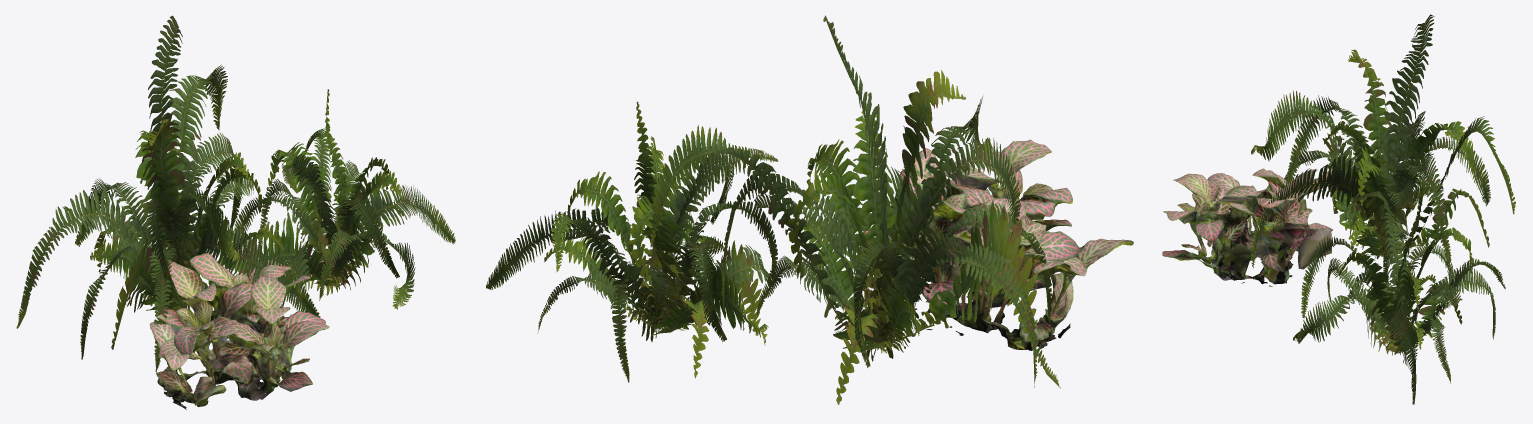
The model's file is plants.glb.
3 renders of one model, left to right at view 1: azimuth 30°, elevation 25°; view 2: azimuth 150°, elevation 25°; view 3: azimuth 270°, elevation 25°, orthographic. The views are drawn at different scales.
Parts seen in each view (by area): view 1: Fern 02 · B, Fern 02 · C, Pink Angel Fittonia · harenil; view 2: Fern 02 · B, Fern 02 · C, Pink Angel Fittonia · harenil; view 3: Fern 02 · B, Fern 02 · C, Pink Angel Fittonia · harenil.
Boxes of the visible parts, left/top/right/bottom form: Fern 02 · B: left=16, top=15, right=320, bottom=372; Fern 02 · C: left=217, top=89, right=455, bottom=309; Pink Angel Fittonia · harenil: left=149, top=253, right=329, bottom=409; Fern 02 · B: left=650, top=15, right=1060, bottom=404; Fern 02 · C: left=486, top=101, right=778, bottom=382; Pink Angel Fittonia · harenil: left=860, top=139, right=1133, bottom=350; Fern 02 · B: left=1250, top=14, right=1515, bottom=290; Fern 02 · C: left=1293, top=183, right=1505, bottom=404; Pink Angel Fittonia · harenil: left=1162, top=167, right=1332, bottom=286.
Bounding box in the file's own units: 2.76 × 1.83 × 2.06.
Materials: 2 (2 with a texture image).
